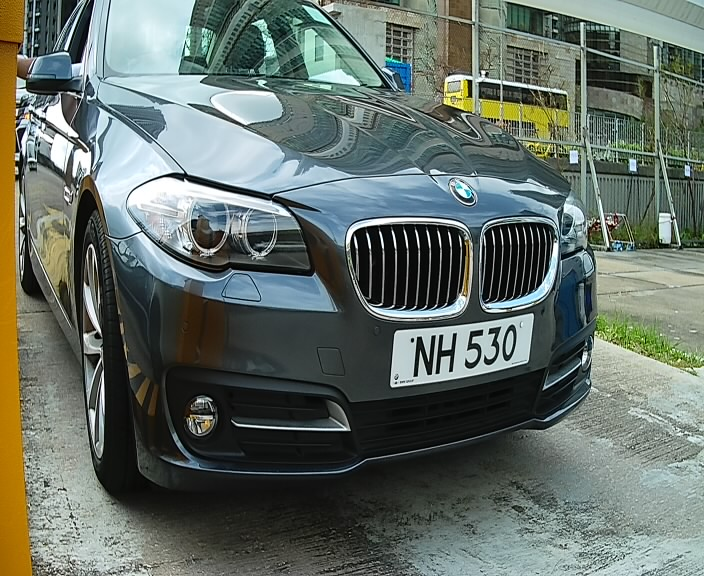Car: (2, 2, 625, 539)
License Plate: (370, 297, 547, 407)
